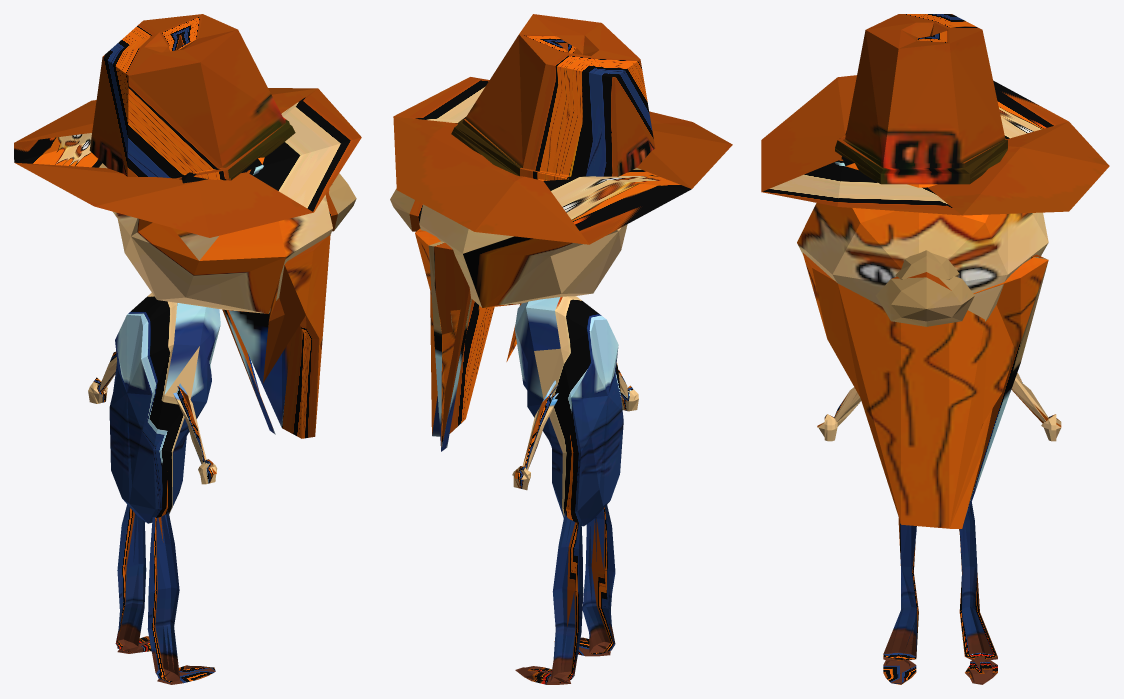
Rendered from Bitnik.glb.
3 renders of one model, left to right at view 1: azimuth 30°, elevation 25°; view 2: azimuth 150°, elevation 25°; view 3: azimuth 270°, elevation 25°, orthographic. The views are drawn at different scales.
Visible parts, largest first — view 1: Bitnik; view 2: Bitnik; view 3: Bitnik.
Boxes of the visible parts, left/top/right/bottom form: Bitnik: left=14, top=14, right=361, bottom=684; Bitnik: left=390, top=14, right=732, bottom=684; Bitnik: left=761, top=14, right=1109, bottom=684.
Size of the model in its own units: 299 by 571 by 279.
1 material, 1 textured.
